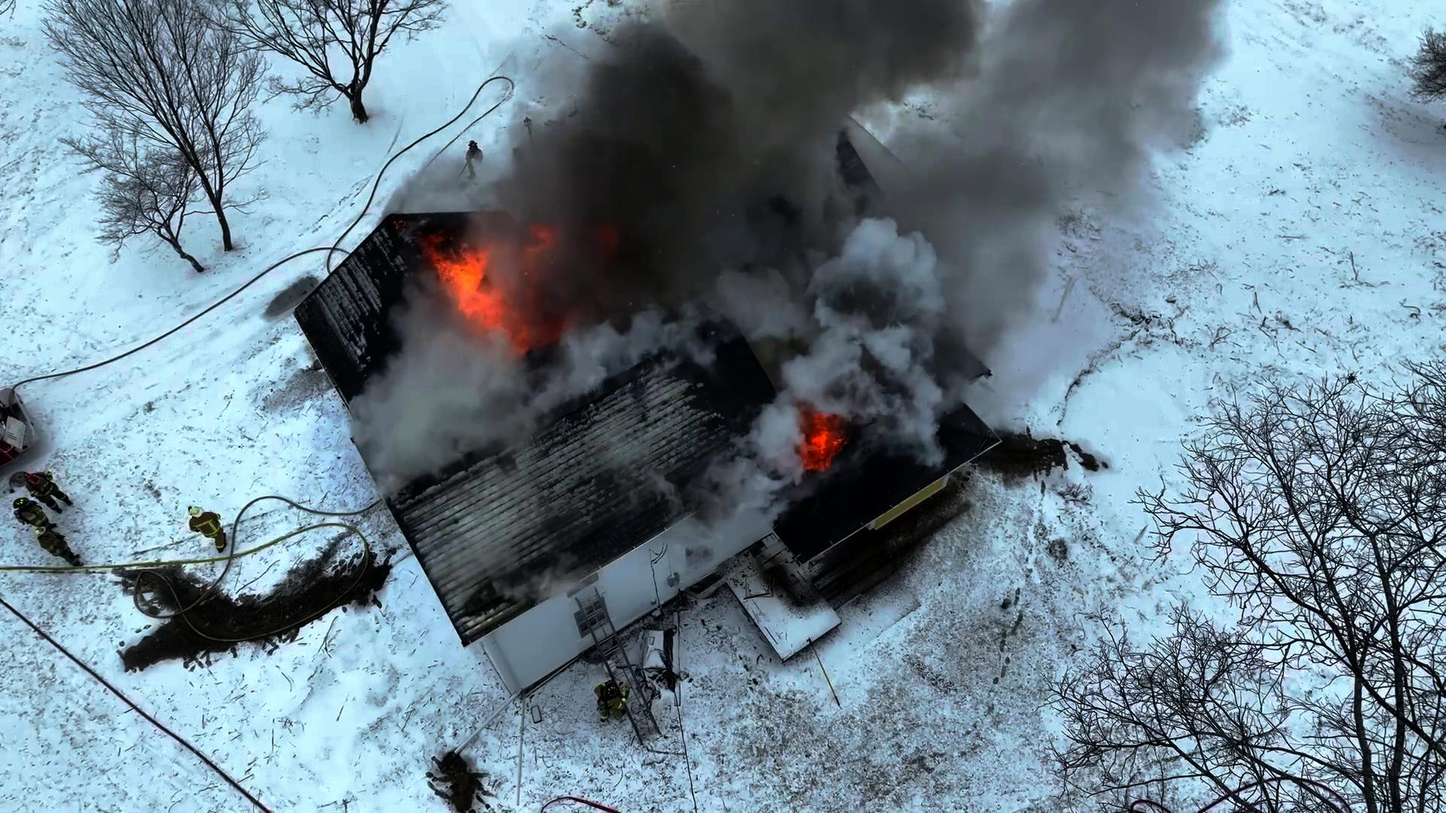fire: (439, 219, 573, 353), (793, 388, 861, 473)
smoke: (646, 66, 1008, 291)
